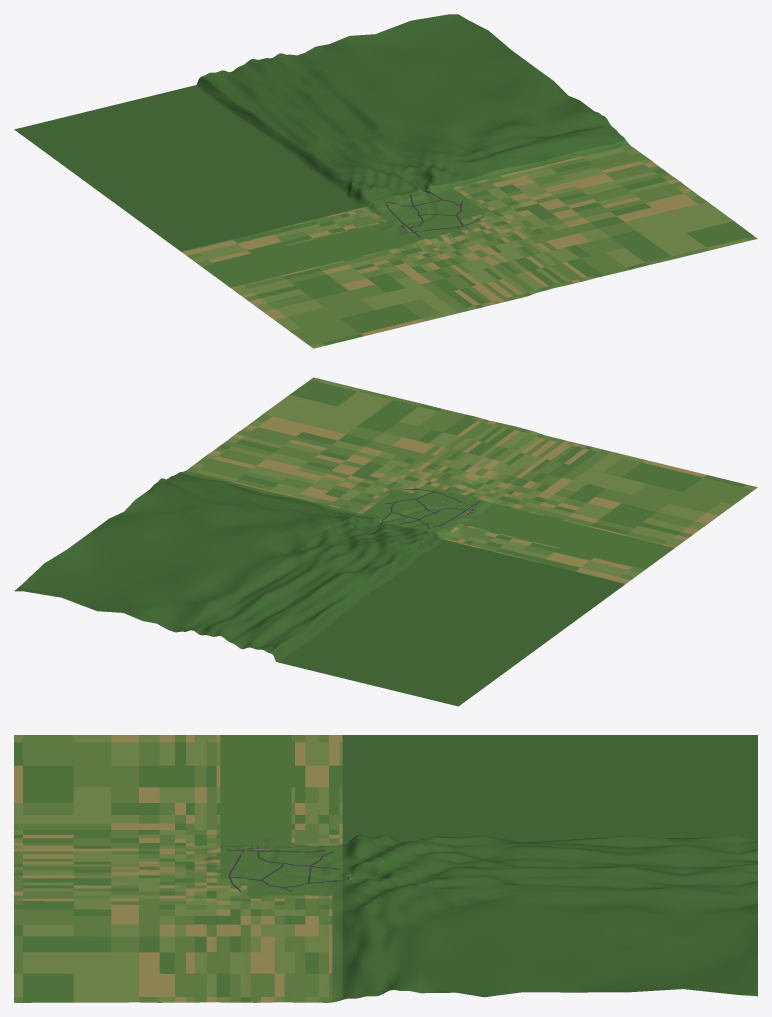
File: terrain_city.fbx
3 renders of one model, top to bottom at view 1: azimuth 30°, elevation 25°; view 2: azimuth 150°, elevation 25°; view 3: azimuth 270°, elevation 25°, orthographic. The views are drawn at different scales.
Parts seen in each view (by area): view 1: terrain_city; view 2: terrain_city; view 3: terrain_city.
Part boxes in pixels (x1=…): terrain_city: x1=14, y1=14, x2=757, y2=348; terrain_city: x1=14, y1=377, x2=757, y2=706; terrain_city: x1=14, y1=735, x2=757, y2=1002.
Bounding box in the file's own units: 3000 × 90.67 × 3500.
